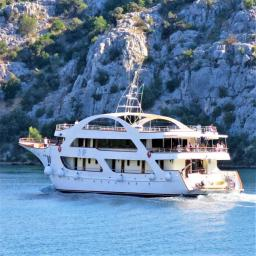cruises: (18, 103, 248, 202)
